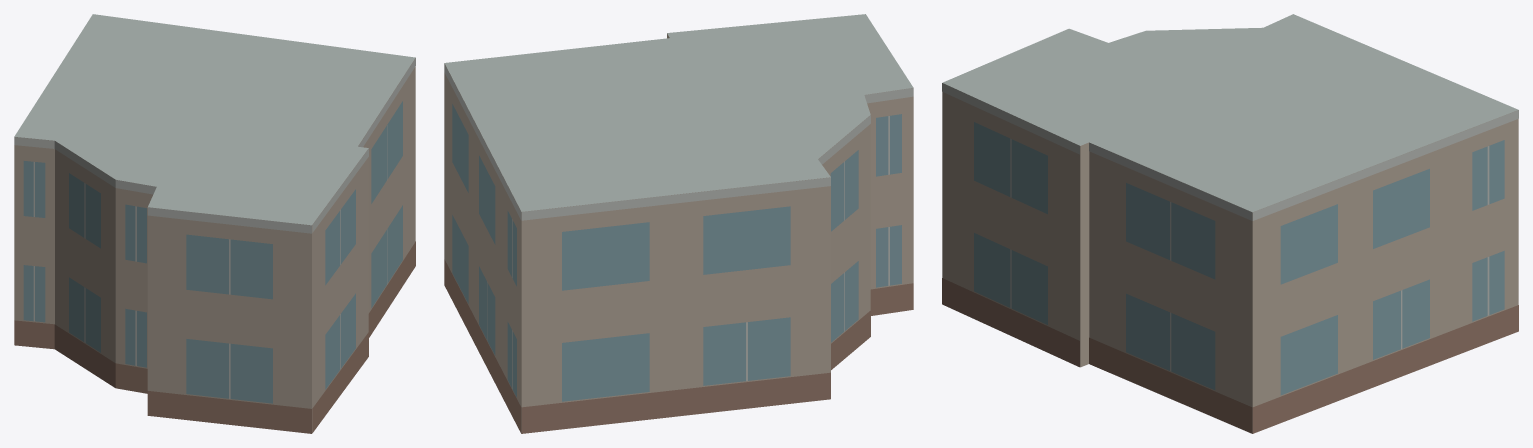
The model's file is survey-upis-32703318.glb.
3 views of the same model, side by side, from view 1: azimuth 30°, elevation 25°; view 2: azimuth 150°, elevation 25°; view 3: azimuth 270°, elevation 25° (orthographic). The views are drawn at different scales.
Parts seen in each view (by area): view 1: survey-upis-32703318.tmp; view 2: survey-upis-32703318.tmp; view 3: survey-upis-32703318.tmp.
Part boxes in pixels (box(x1,y1,x2,y2)): survey-upis-32703318.tmp: box(14, 14, 415, 433); survey-upis-32703318.tmp: box(444, 14, 913, 433); survey-upis-32703318.tmp: box(942, 14, 1518, 433).
Bounding box in the file's own units: 11.72 × 6.1 × 14.39.
